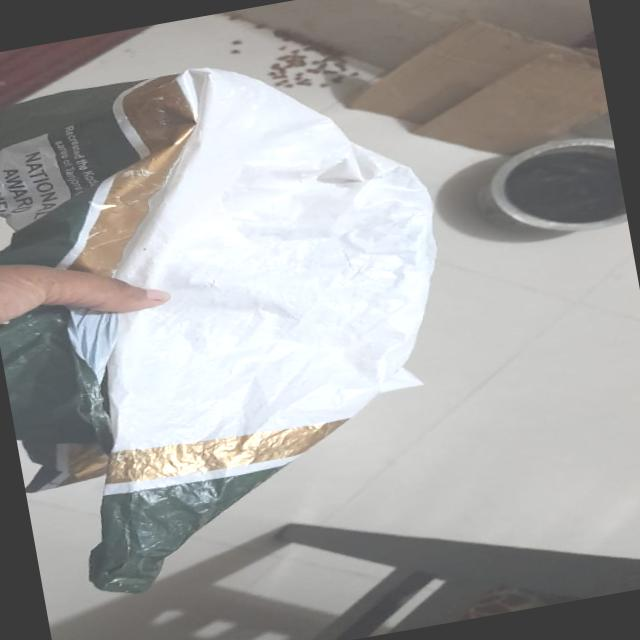Plastic - Recyclable: (0, 30, 495, 610)
